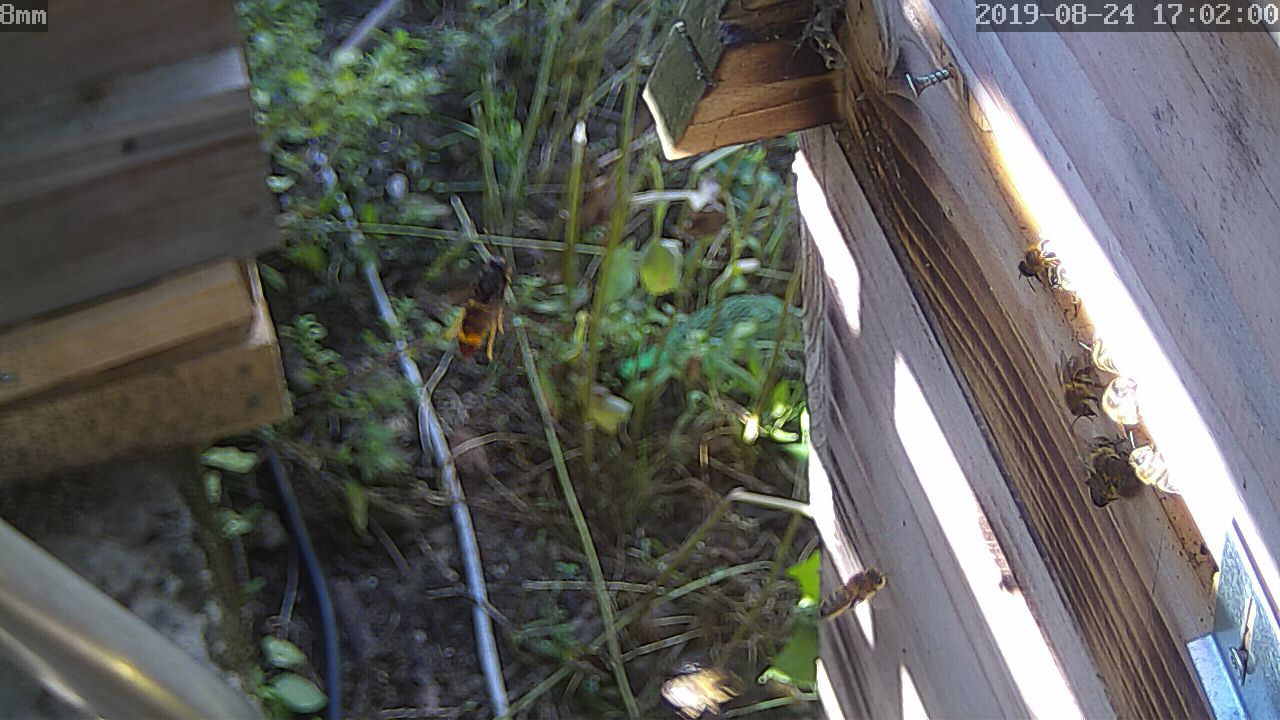bee: (1083, 433, 1148, 515), (812, 564, 878, 614), (1054, 343, 1097, 419), (1009, 233, 1054, 288)
hornet: (446, 252, 522, 354)
